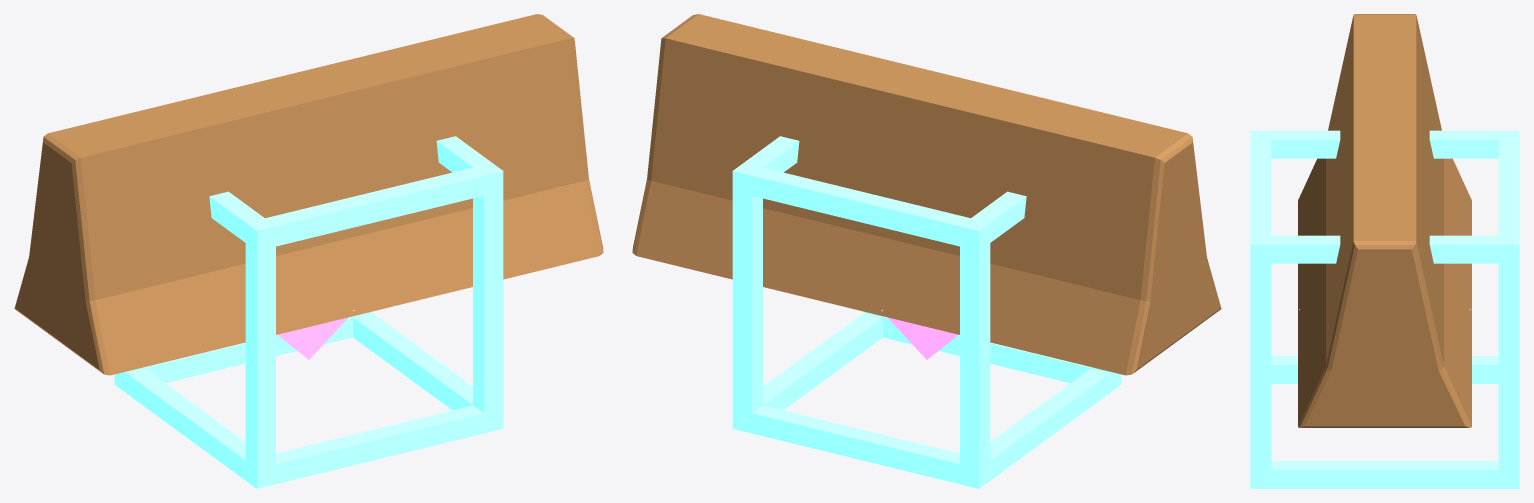
Rendered from shared_props.glb.
3 views of the same model, side by side, from view 1: azimuth 30°, elevation 25°; view 2: azimuth 150°, elevation 25°; view 3: azimuth 270°, elevation 25° (orthographic). The views are drawn at different scales.
Parts seen in each view (by area): view 1: barricade, item_frame, item_core; view 2: barricade, item_frame, item_core; view 3: barricade, item_frame.
Part boxes in pixels (box(x1,y1,x2,y2)): barricade: box(14, 14, 603, 375); item_frame: box(114, 136, 503, 488); item_core: box(277, 310, 354, 359); barricade: box(632, 14, 1221, 375); item_frame: box(732, 136, 1121, 488); item_core: box(881, 310, 958, 359); barricade: box(1298, 14, 1471, 427); item_frame: box(1250, 130, 1519, 488).
Bounding box in the file's own units: 2.88 × 1.75 × 1.41.
